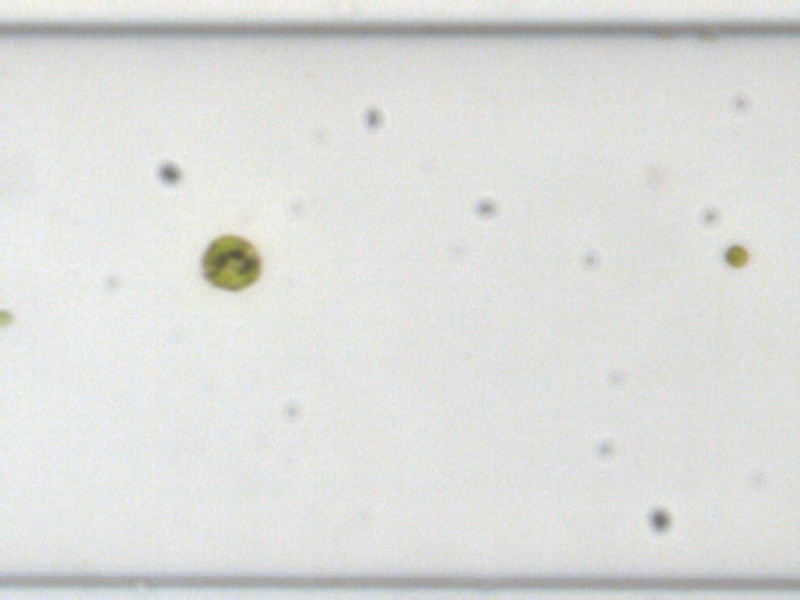Chlorella: (723, 242, 749, 269)
Haematococcus: (197, 230, 262, 293)
